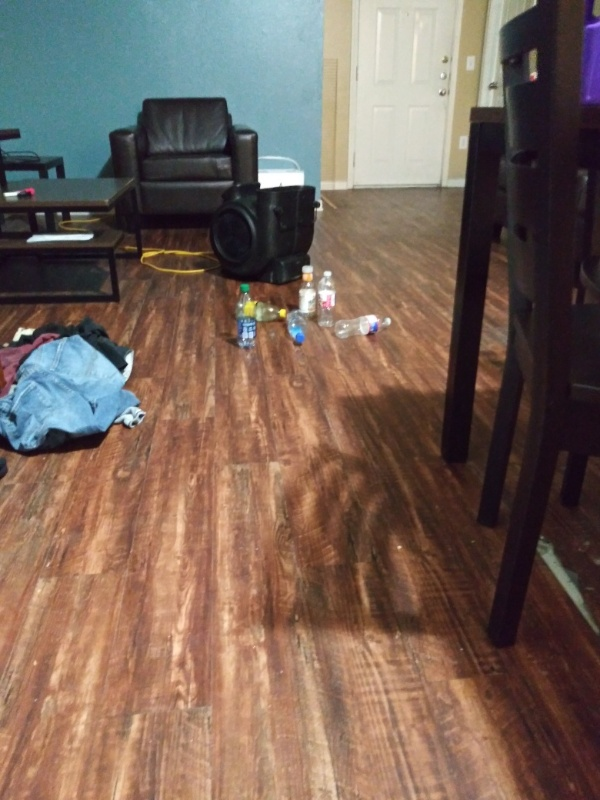bottle: (229, 279, 260, 351), (332, 314, 395, 341), (314, 269, 338, 328), (233, 297, 289, 320), (296, 262, 317, 315), (285, 308, 310, 348)
